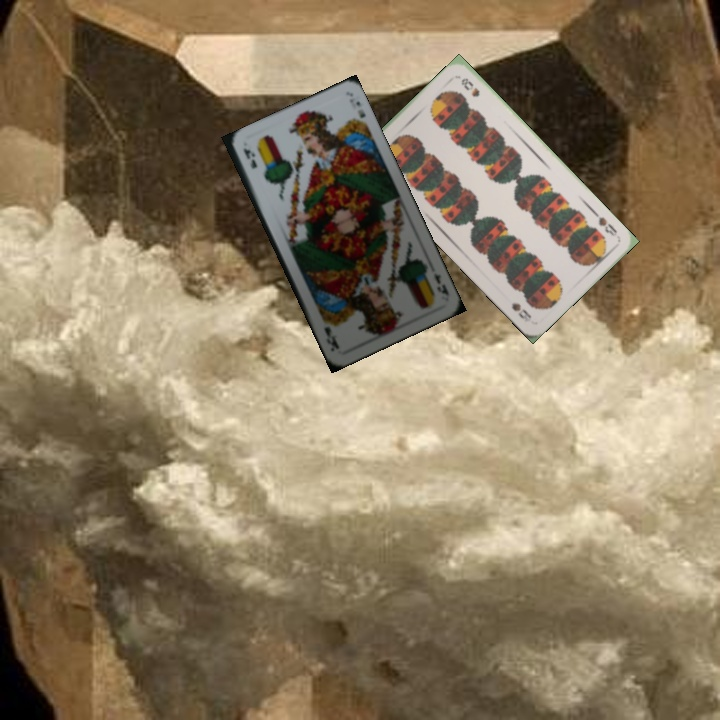EK: (430, 269, 452, 300), (239, 144, 260, 171)
S8: (589, 207, 620, 239)
